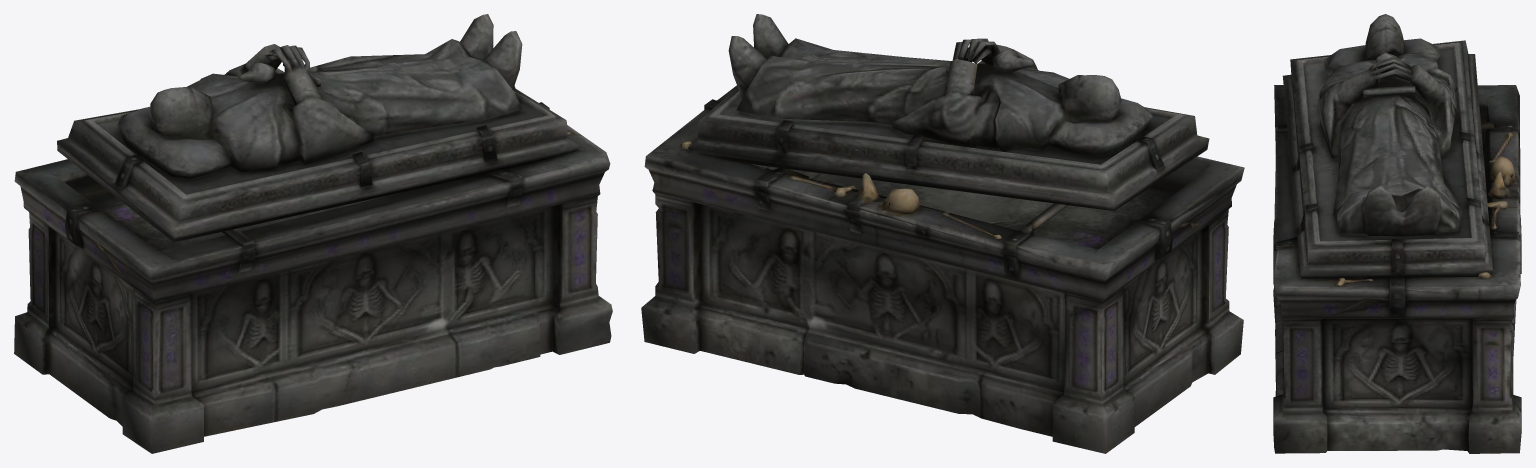
Rendered from sarcophagus.glb.
3 renders of one model, left to right at view 1: azimuth 30°, elevation 25°; view 2: azimuth 150°, elevation 25°; view 3: azimuth 270°, elevation 25°, orthographic. The views are drawn at different scales.
Parts seen in each view (by area): view 1: tripo_node_7a7172dd-d7b1-4d2a-95a4-b93c87e6027a; view 2: tripo_node_7a7172dd-d7b1-4d2a-95a4-b93c87e6027a; view 3: tripo_node_7a7172dd-d7b1-4d2a-95a4-b93c87e6027a.
Boxes of the visible parts, x1=… form: tripo_node_7a7172dd-d7b1-4d2a-95a4-b93c87e6027a: x1=14, y1=14, x2=612, y2=453; tripo_node_7a7172dd-d7b1-4d2a-95a4-b93c87e6027a: x1=641, y1=14, x2=1244, y2=453; tripo_node_7a7172dd-d7b1-4d2a-95a4-b93c87e6027a: x1=1273, y1=14, x2=1521, y2=453.
Bounding box in the file's own units: 0.998 × 0.6348 × 0.5098.
Materials: 1 (1 with a texture image).
